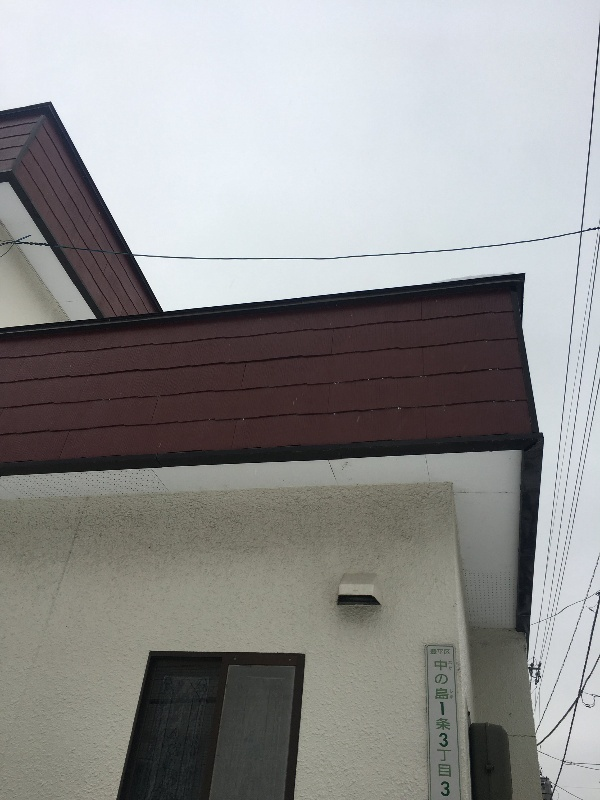text: (435, 661, 448, 799), (449, 661, 453, 799), (450, 690, 464, 701), (449, 662, 464, 672), (433, 649, 448, 655), (449, 649, 451, 655), (431, 649, 432, 655)
